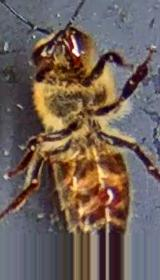varroa_mite: (93, 179, 122, 208)
